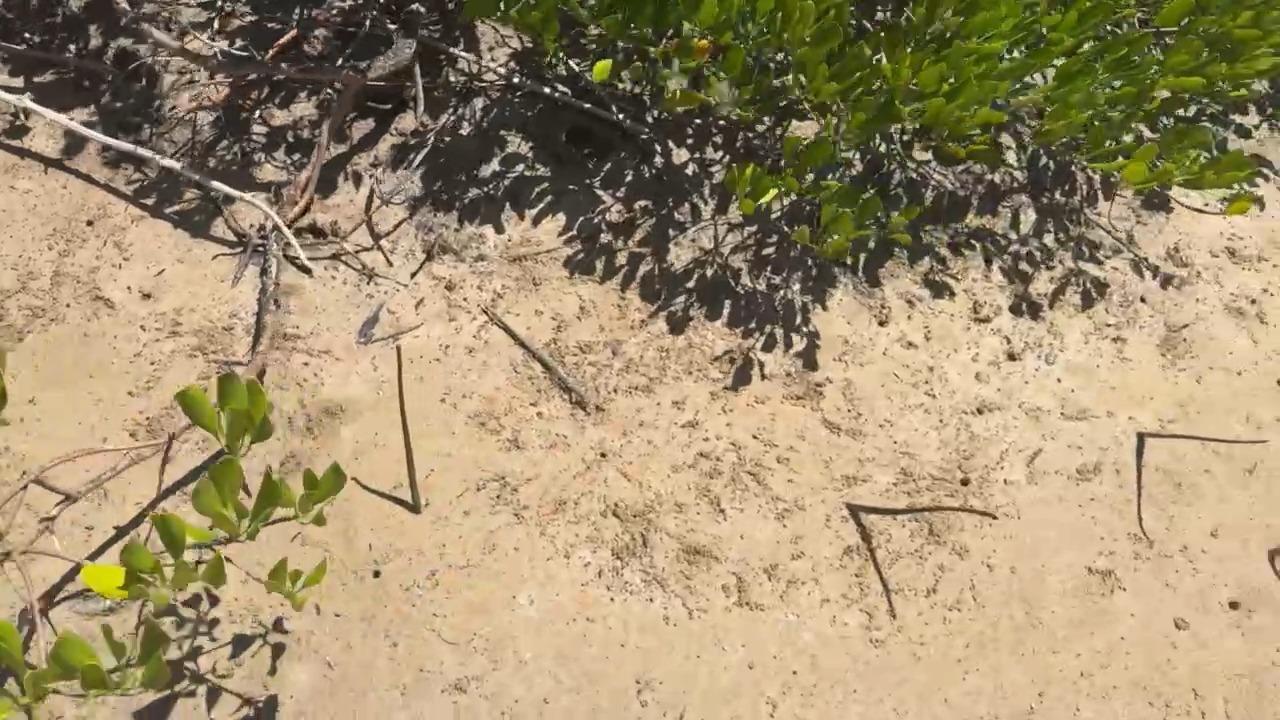Tree: (395, 343, 422, 514), (844, 497, 999, 523), (1135, 431, 1267, 445)
